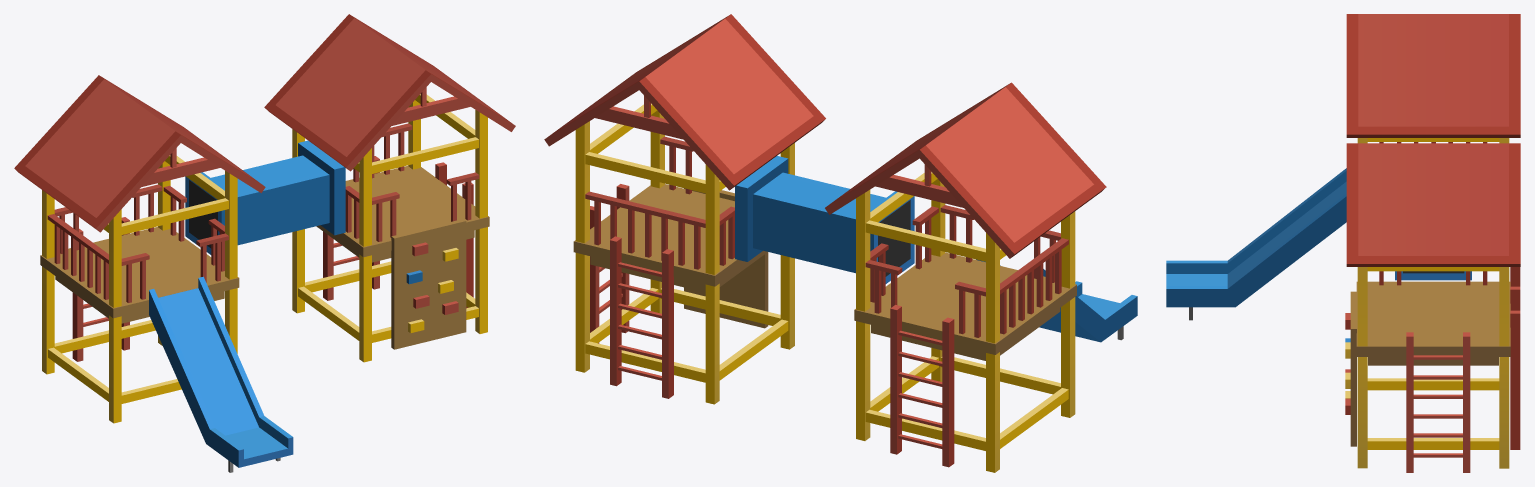
File: SM_Playground_Large_01.fbx
The picture shows the model from 3 angles, left to right: view 1: azimuth 30°, elevation 25°; view 2: azimuth 150°, elevation 25°; view 3: azimuth 270°, elevation 25°; orthographic projection. The views are drawn at different scales.
Visible parts, largest first — view 1: SM_Playground_Large_01; view 2: SM_Playground_Large_01; view 3: SM_Playground_Large_01.
Boxes of the visible parts, x1=… form: SM_Playground_Large_01: x1=14, y1=14, x2=515, y2=472; SM_Playground_Large_01: x1=544, y1=14, x2=1137, y2=472; SM_Playground_Large_01: x1=1166, y1=14, x2=1520, y2=472.
Bounding box in the file's own units: 8.42 × 5.31 × 5.81.
